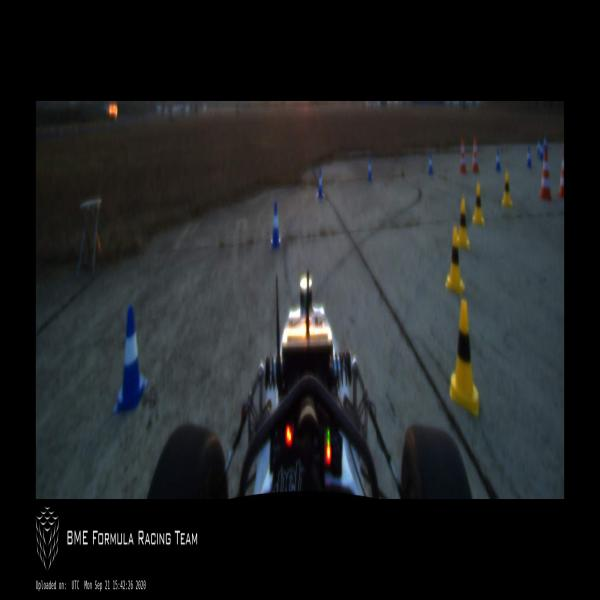blue_cone: (112, 305, 149, 415), (271, 201, 281, 248), (316, 169, 324, 199), (366, 158, 372, 182), (495, 148, 501, 171), (526, 146, 532, 168), (537, 138, 542, 156), (429, 153, 433, 174), (543, 136, 547, 150)
large_orange_cone: (540, 150, 552, 200), (558, 150, 564, 198), (472, 137, 479, 173), (460, 139, 467, 173)
yellow_cone: (450, 299, 479, 415), (446, 227, 464, 293), (458, 200, 470, 247), (472, 182, 485, 225), (501, 172, 513, 207)
